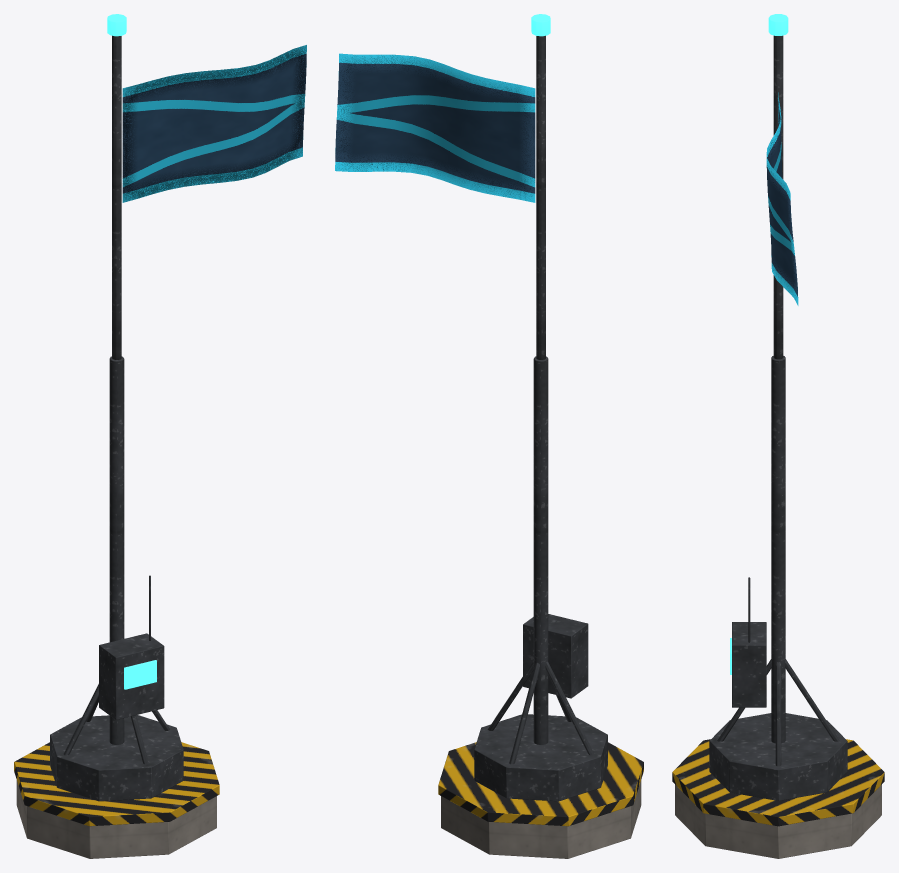
File: OBJ_Conquest_Flagpole.glb
3 views of the same model, side by side, from view 1: azimuth 30°, elevation 25°; view 2: azimuth 150°, elevation 25°; view 3: azimuth 270°, elevation 25° (orthographic).
Visible parts, largest first — view 1: OBJ_Conquest_Flagpole_Mast, OBJ_Conquest_Flagpole_Banner; view 2: OBJ_Conquest_Flagpole_Mast, OBJ_Conquest_Flagpole_Banner; view 3: OBJ_Conquest_Flagpole_Mast, OBJ_Conquest_Flagpole_Banner.
Boxes of the visible parts, bbox=[...] form: OBJ_Conquest_Flagpole_Mast: bbox=[14, 14, 219, 858]; OBJ_Conquest_Flagpole_Banner: bbox=[122, 45, 306, 202]; OBJ_Conquest_Flagpole_Mast: bbox=[438, 14, 643, 858]; OBJ_Conquest_Flagpole_Banner: bbox=[335, 53, 535, 202]; OBJ_Conquest_Flagpole_Mast: bbox=[672, 14, 884, 858]; OBJ_Conquest_Flagpole_Banner: bbox=[766, 92, 798, 305].
Size of the model in its own units: 2.5 by 6.62 by 1.6.
Materials: 5 (5 with a texture image).
